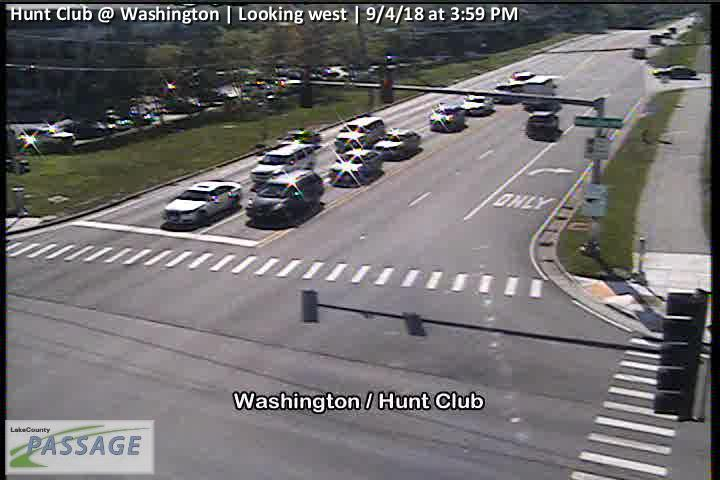SUV: (244, 169, 323, 230), (250, 143, 314, 187), (327, 149, 382, 187), (334, 117, 385, 155), (428, 102, 465, 135), (527, 110, 559, 139), (464, 91, 497, 116)
Sedan: (164, 180, 241, 225), (373, 127, 423, 161), (277, 127, 321, 151), (652, 64, 697, 80)
